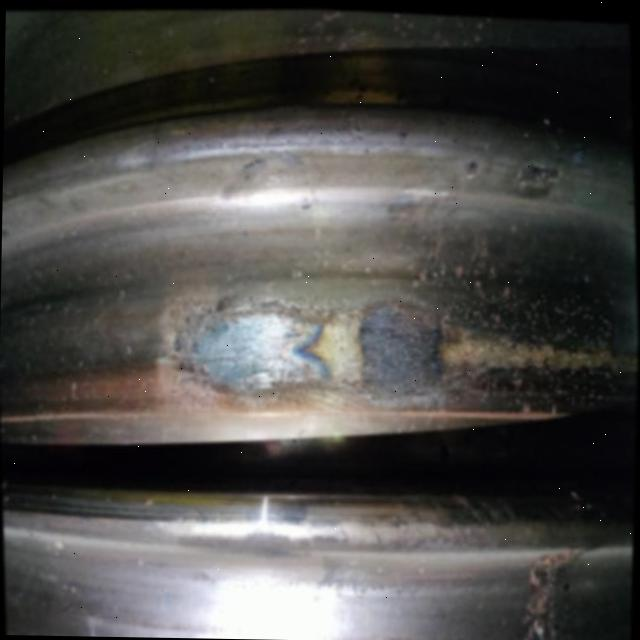flat: (169, 274, 619, 424)
